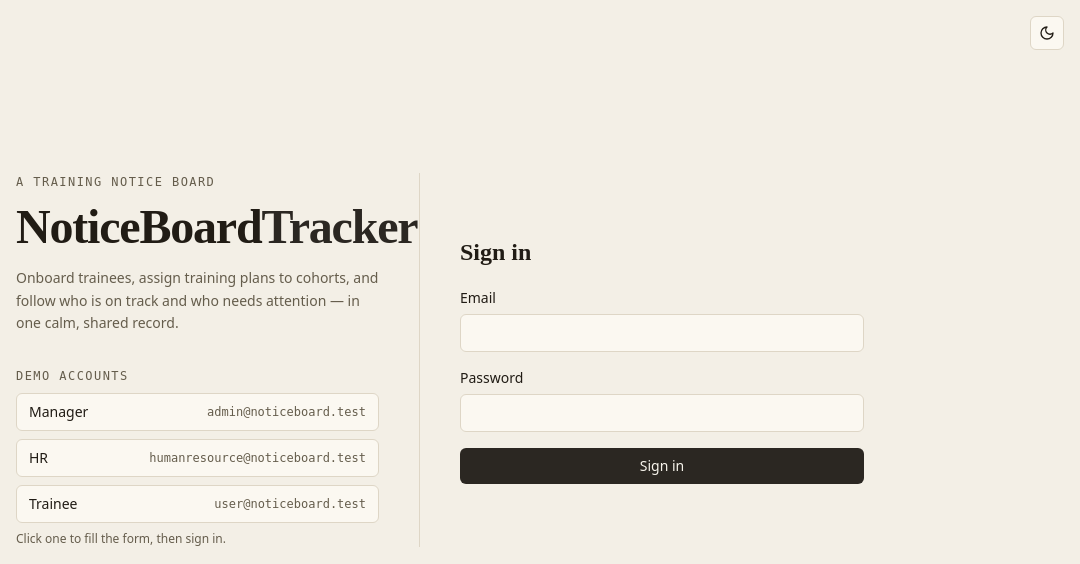
Login › shows 'wrong email or password' on a 401
Type "admin@noticeboard.test" into the field labelled "Email" at (662, 333), box [460, 314, 864, 352]
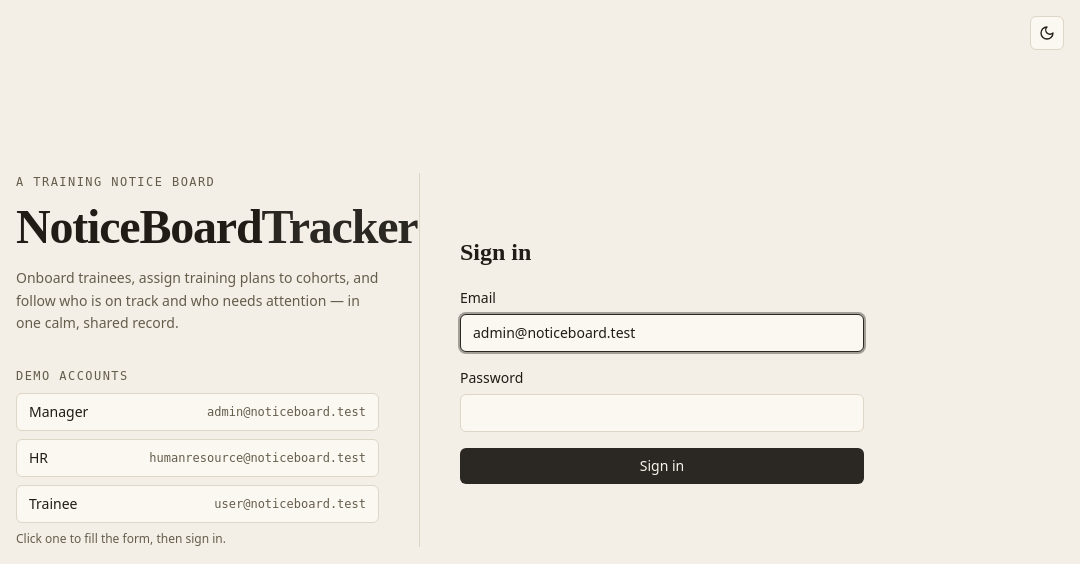
Type "wrong" into the password field labelled "Password" at (662, 413), box [460, 394, 864, 432]
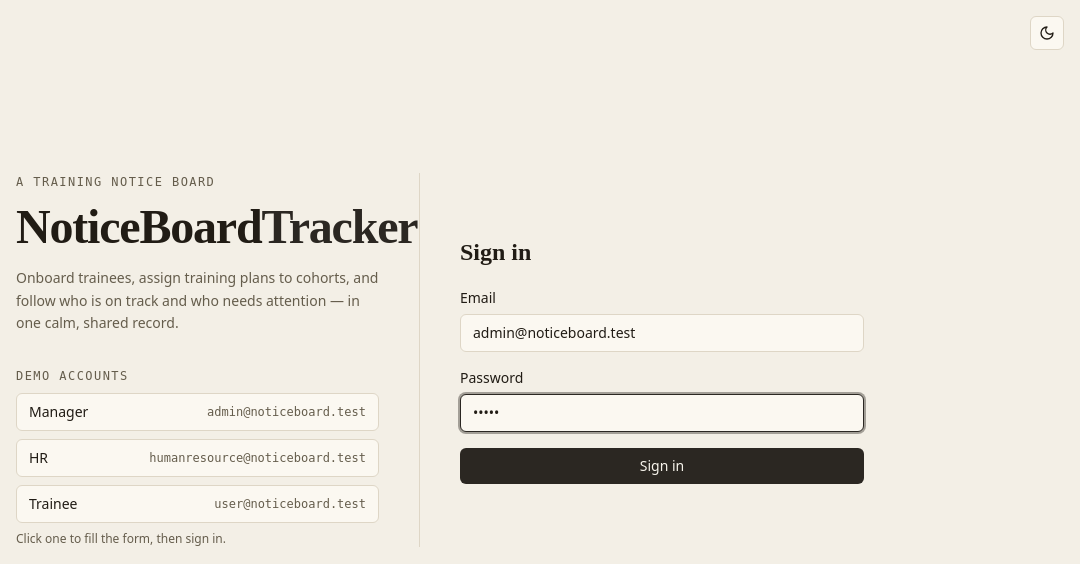
Click the button "Sign in" at (662, 466), box [460, 448, 864, 484]
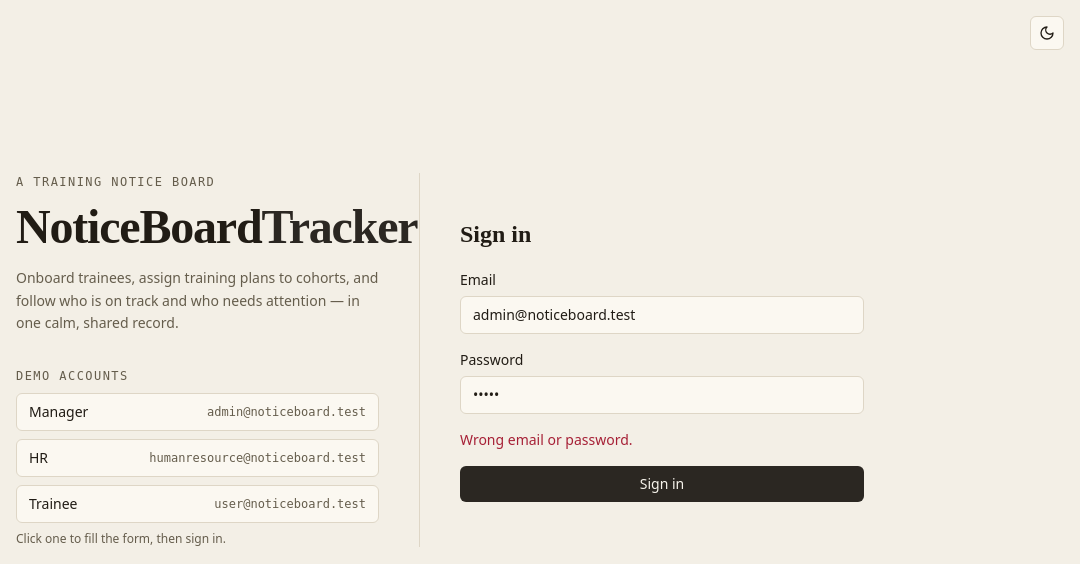
Now the text "Wrong email or password." is shown, box [460, 430, 633, 449]
